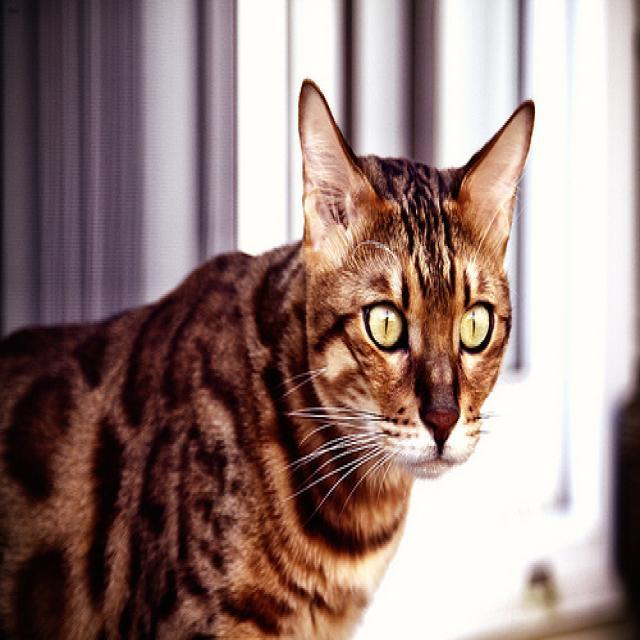Bengal: (294, 67, 537, 481)
